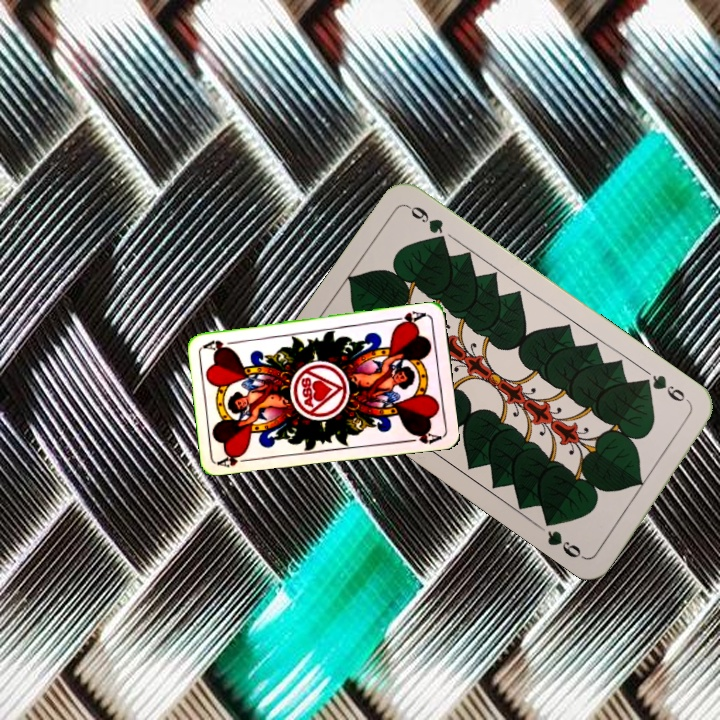G9: (637, 370, 694, 407)
HA: (388, 307, 429, 329), (215, 448, 256, 470)
